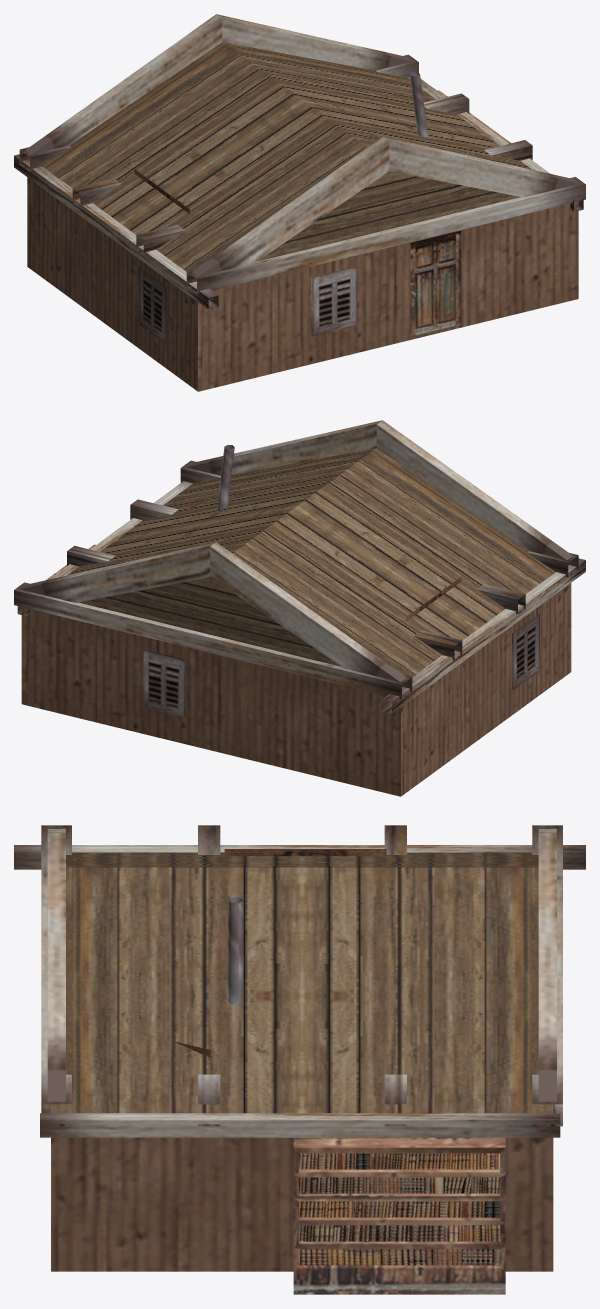
The model's file is helltown.obj.
The picture shows the model from 3 angles, top to bottom: view 1: azimuth 30°, elevation 25°; view 2: azimuth 150°, elevation 25°; view 3: azimuth 270°, elevation 25°; orthographic projection. The views are drawn at different scales.
Parts seen in each view (by area): view 1: house_haunted_inside.mo, house_haunted_furnace.mo; view 2: house_haunted_inside.mo, house_haunted_furnace.mo; view 3: house_haunted_inside.mo, biblio.mo, house_haunted_furnace.mo, hallway_tapisseryTall.mo.001.
Part boxes in pixels (left/top/right/bottom): house_haunted_inside.mo: left=14, top=14, right=585, bottom=391; house_haunted_furnace.mo: left=409, top=72, right=428, bottom=137; house_haunted_inside.mo: left=14, top=420, right=585, bottom=796; house_haunted_furnace.mo: left=217, top=445, right=234, bottom=509; house_haunted_inside.mo: left=14, top=825, right=585, bottom=1271; biblio.mo: left=293, top=1137, right=505, bottom=1294; house_haunted_furnace.mo: left=227, top=897, right=243, bottom=1004; hallway_tapisseryTall.mo.001: left=224, top=849, right=386, bottom=855.
Bounding box in the file's own units: 11.62 × 5.93 × 9.79.
9 materials, 9 textured.
